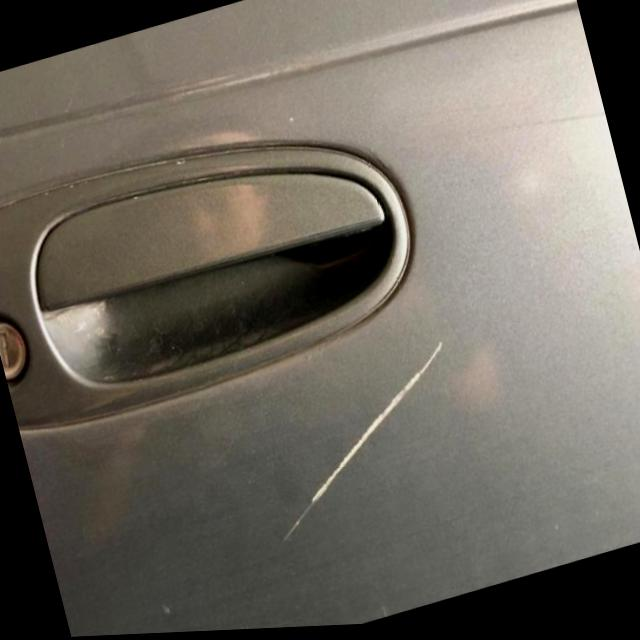Scratch: (276, 342, 444, 552)
